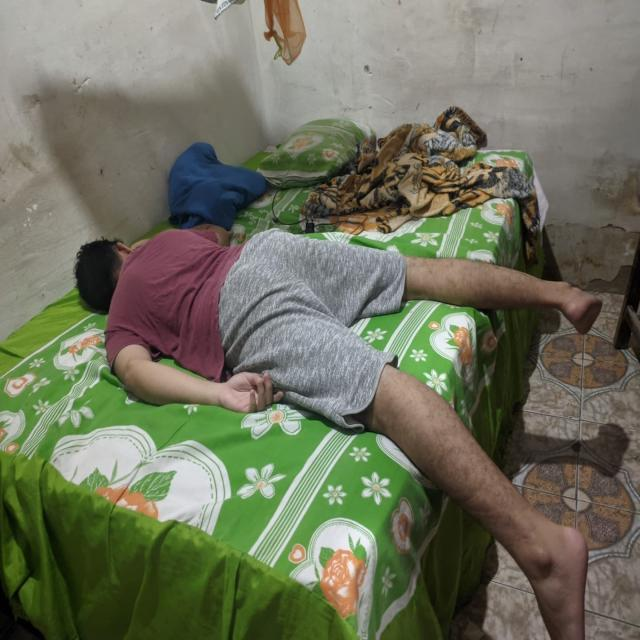deitado: (70, 220, 617, 639)
